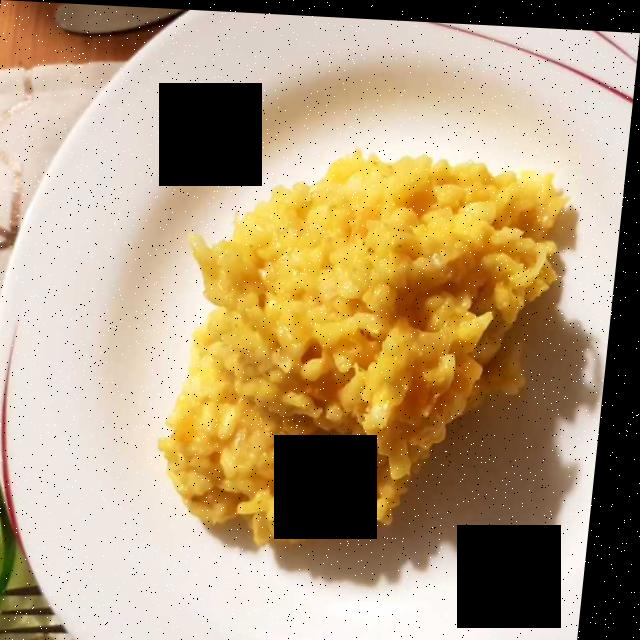risotto-without-cheese-cooked: (181, 158, 571, 536)
